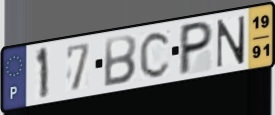1: (33, 45, 51, 102)
7: (64, 42, 92, 94)
B: (102, 33, 139, 89)
C: (138, 29, 173, 80)
N: (215, 13, 248, 70)
P: (177, 19, 215, 78)
